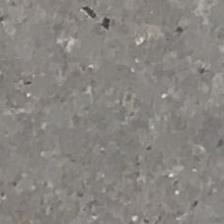Non_Crack: (27, 23, 224, 216)
